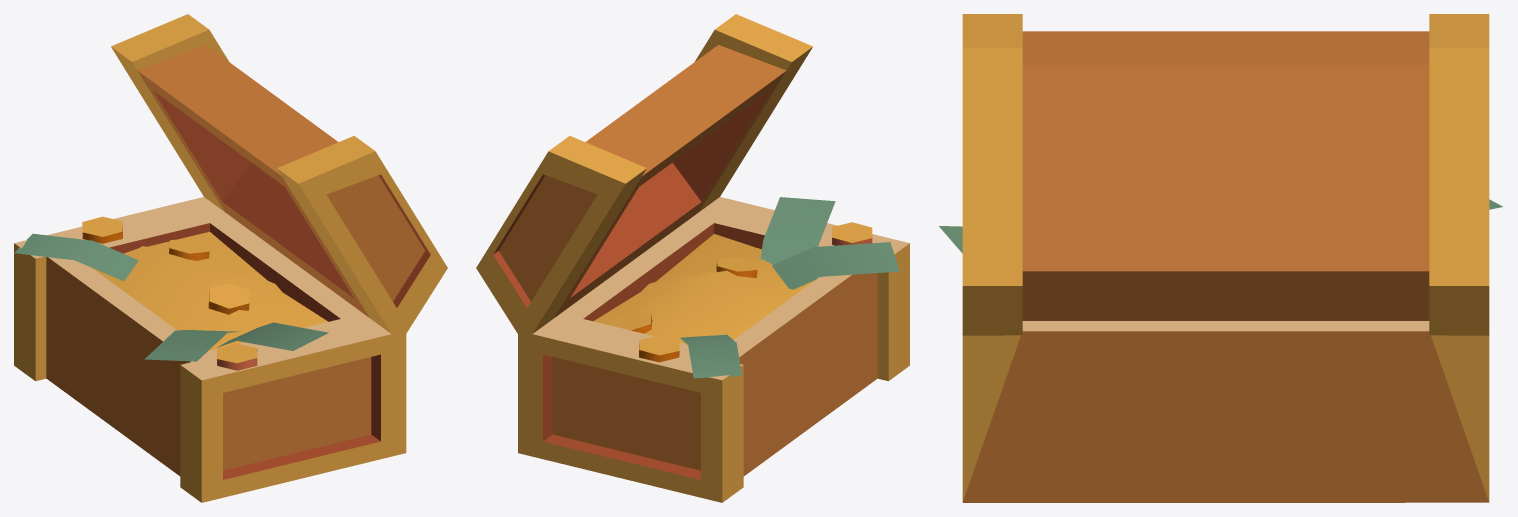
The model's file is SM_Chest_001.fbx.
3 renders of one model, left to right at view 1: azimuth 30°, elevation 25°; view 2: azimuth 150°, elevation 25°; view 3: azimuth 270°, elevation 25°, orthographic. The views are drawn at different scales.
Visible parts, largest first — view 1: Chest_001; view 2: Chest_001; view 3: Chest_001.
Boxes of the visible parts, x1,y1,x2,y2 form: Chest_001: [14, 14, 447, 502]; Chest_001: [476, 14, 909, 502]; Chest_001: [939, 14, 1502, 502].
Bounding box in the file's own units: 129 × 142 × 167.
1 material, 1 textured.
